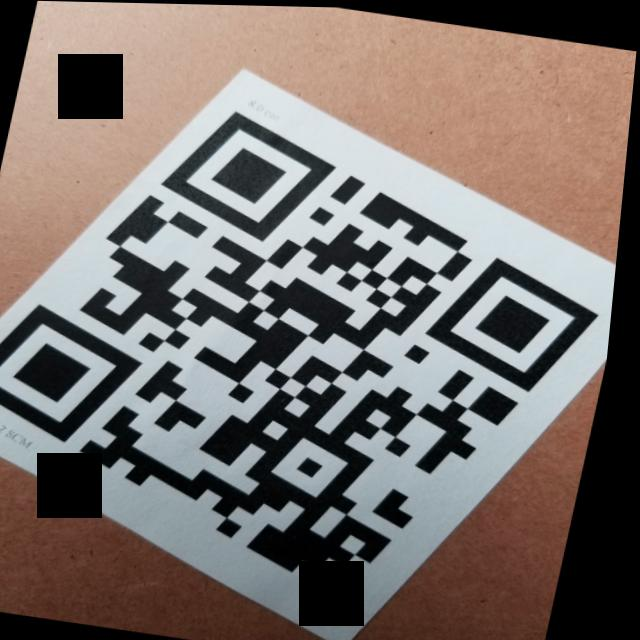QR_CODE: (0, 61, 635, 630)
